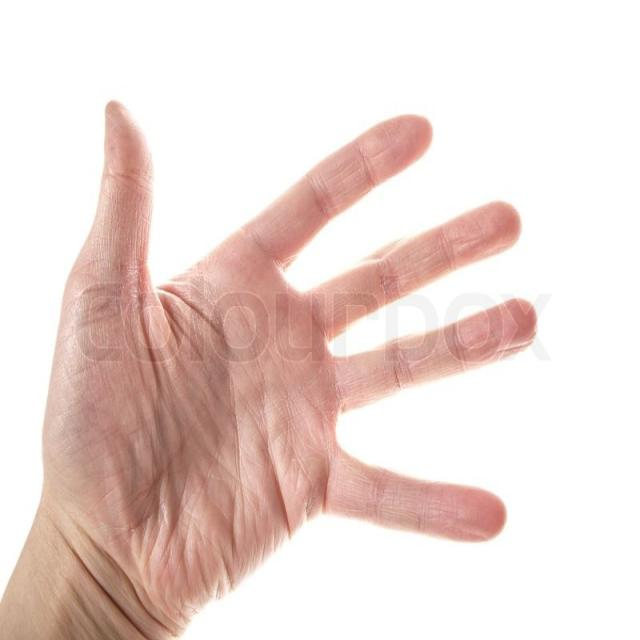no-gloves: (38, 99, 538, 637)
